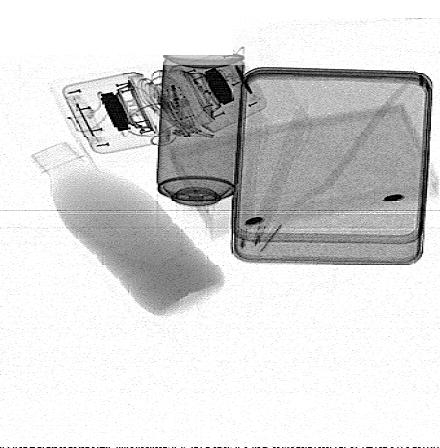Sprayer: (155, 54, 246, 240)
